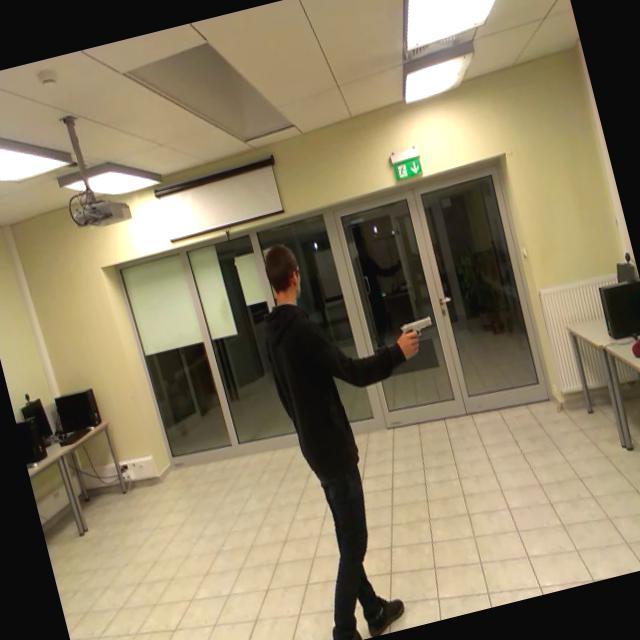handgun: (395, 302, 443, 366)
